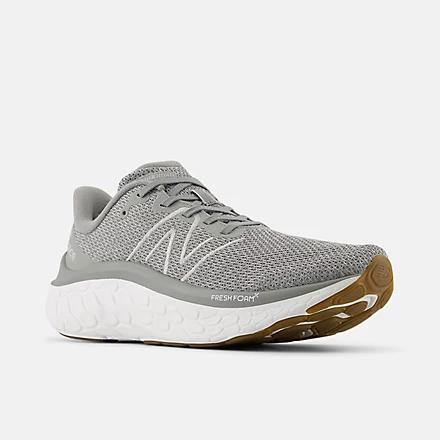NB logo: (120, 198, 250, 291)
